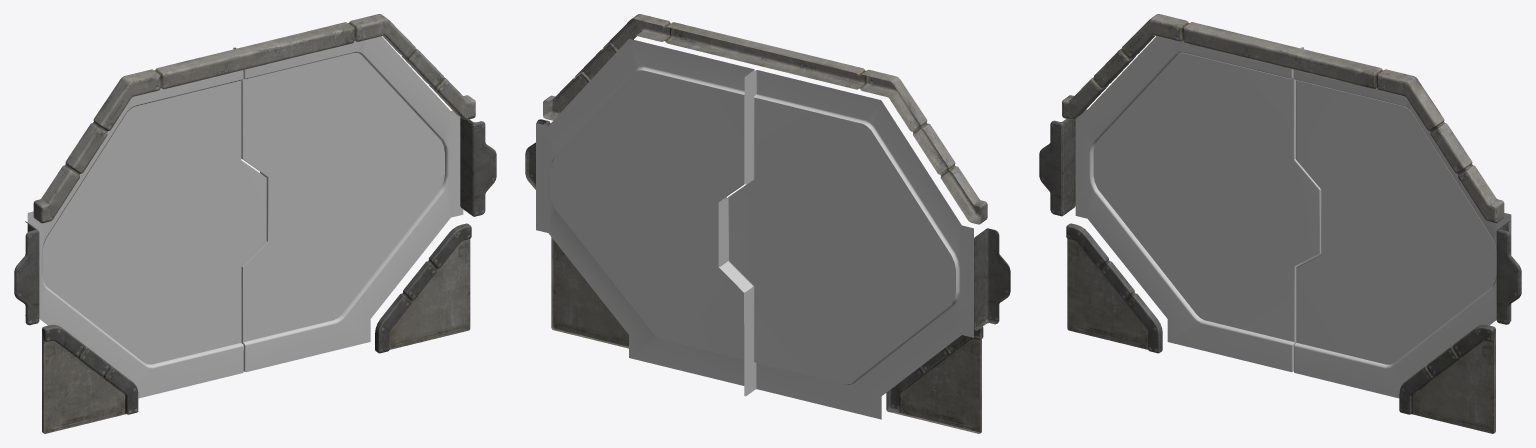
Rendered from door_pneumatic.fbx.
The picture shows the model from 3 angles, left to right: view 1: azimuth 30°, elevation 25°; view 2: azimuth 150°, elevation 25°; view 3: azimuth 330°, elevation 25°; orthographic projection.
Parts seen in each view (by area): view 1: prop_doorPneumatic_mainRight, prop_doorPneumatic_mainLeft, prop_doorPneumatic_kicker, prop_doorPneumatic_dado, prop_doorPneumatic_handrails; view 2: prop_doorPneumatic_mainLeft, prop_doorPneumatic_mainRight, prop_doorPneumatic_dado, prop_doorPneumatic_kicker, prop_doorPneumatic_handrails; view 3: prop_doorPneumatic_mainLeft, prop_doorPneumatic_mainRight, prop_doorPneumatic_kicker, prop_doorPneumatic_dado, prop_doorPneumatic_handrails.
Boxes of the visible parts, bbox=[...] form: prop_doorPneumatic_mainRight: bbox=[234, 36, 463, 372]; prop_doorPneumatic_mainLeft: bbox=[27, 47, 266, 398]; prop_doorPneumatic_kicker: bbox=[42, 223, 471, 433]; prop_doorPneumatic_dado: bbox=[33, 14, 475, 223]; prop_doorPneumatic_handrails: bbox=[14, 117, 496, 325]; prop_doorPneumatic_mainLeft: bbox=[720, 70, 973, 419]; prop_doorPneumatic_mainRight: bbox=[536, 38, 754, 395]; prop_doorPneumatic_dado: bbox=[543, 14, 987, 224]; prop_doorPneumatic_kicker: bbox=[551, 237, 983, 433]; prop_doorPneumatic_handrails: bbox=[525, 119, 1010, 330]; prop_doorPneumatic_mainLeft: bbox=[1075, 36, 1321, 372]; prop_doorPneumatic_mainRight: bbox=[1293, 47, 1511, 398]; prop_doorPneumatic_kicker: bbox=[1066, 223, 1495, 433]; prop_doorPneumatic_dado: bbox=[1062, 14, 1504, 223]; prop_doorPneumatic_handrails: bbox=[1039, 119, 1521, 324].
Size of the model in its own units: 685 by 452 by 60.78.
